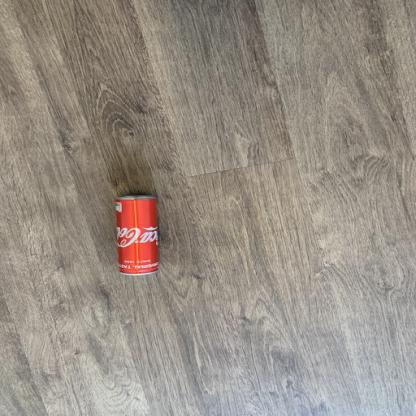trash: (99, 188, 174, 287)
